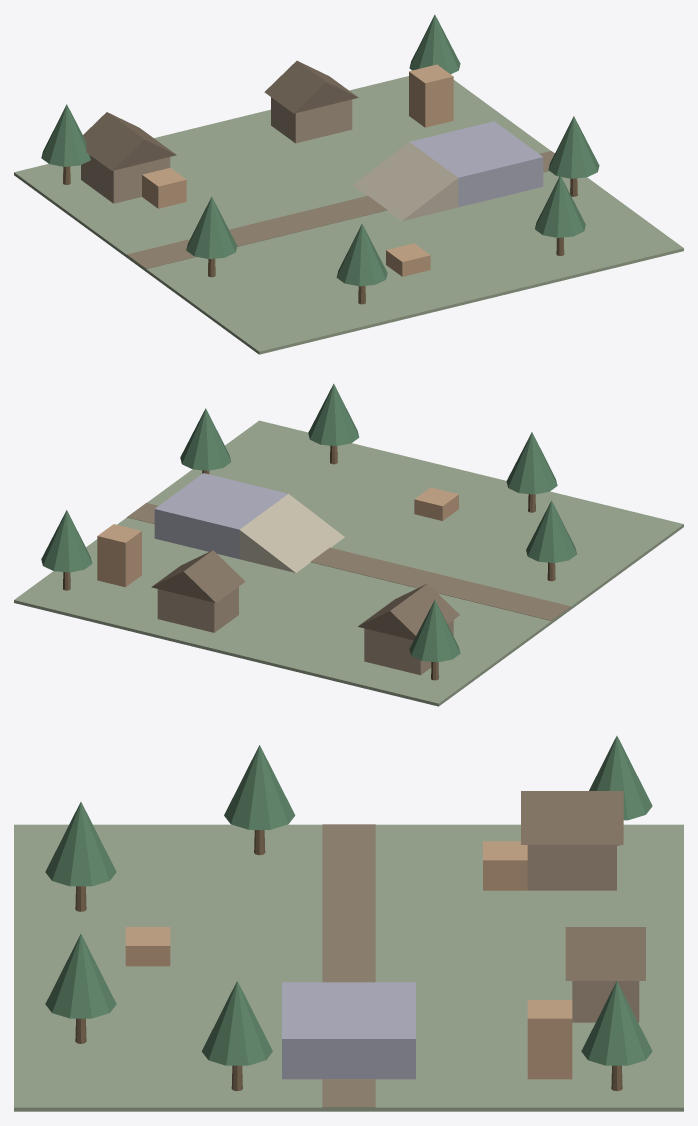
The model's file is teste.glb.
3 views of the same model, one above another, from view 1: azimuth 30°, elevation 25°; view 2: azimuth 150°, elevation 25°; view 3: azimuth 270°, elevation 25° (orthographic). The views are drawn at different scales.
Parts seen in each view (by area): view 1: chao, plataforma, rampa, caminho, casa1_telhado, casa2_telhado, casa2, caixa3, casa1, arvore2_copa, arvore1_copa, arvore0_copa (+5 smaller); view 2: chao, plataforma, caminho, rampa, casa2_telhado, casa1_telhado, casa2, caixa3, casa1, arvore5_copa, arvore0_copa, arvore1_copa (+4 smaller); view 3: chao, plataforma, caminho, casa1_telhado, casa2_telhado, casa1, caixa3, arvore3_copa, arvore2_copa, arvore1_copa, arvore0_copa, arvore5_copa (+4 smaller).
Part boxes in pixels (x1,y1,x2,y2): chao: [14, 76, 683, 354]; plataforma: [410, 121, 543, 207]; rampa: [353, 142, 458, 220]; caminho: [127, 151, 554, 268]; casa1_telhado: [83, 112, 176, 170]; casa2_telhado: [264, 60, 358, 113]; casa2: [271, 97, 352, 143]; caixa3: [409, 64, 453, 127]; casa1: [81, 155, 170, 203]; arvore2_copa: [535, 175, 585, 237]; arvore1_copa: [548, 116, 599, 178]; arvore0_copa: [186, 196, 237, 258]; chao: [14, 420, 683, 706]; plataforma: [154, 473, 287, 559]; caminho: [127, 503, 570, 620]; rampa: [239, 494, 344, 572]; casa2_telhado: [151, 550, 245, 602]; casa1_telhado: [358, 583, 459, 640]; casa2: [157, 587, 238, 632]; caixa3: [97, 524, 141, 587]; casa1: [364, 620, 453, 675]; arvore5_copa: [41, 510, 92, 572]; arvore0_copa: [526, 500, 576, 562]; arvore1_copa: [180, 408, 231, 470]; chao: [14, 824, 683, 1111]; plataforma: [282, 982, 415, 1079]; caminho: [322, 824, 375, 1107]; casa1_telhado: [521, 791, 623, 844]; casa2_telhado: [565, 927, 645, 980]; casa1: [527, 845, 616, 890]; caixa3: [527, 1000, 572, 1079]; arvore3_copa: [45, 802, 116, 886]; arvore2_copa: [45, 934, 116, 1018]; arvore1_copa: [201, 981, 272, 1065]; arvore0_copa: [224, 745, 295, 829]; arvore5_copa: [581, 981, 652, 1065].
Size of the model in its own units: 30 by 5.55 by 30.
